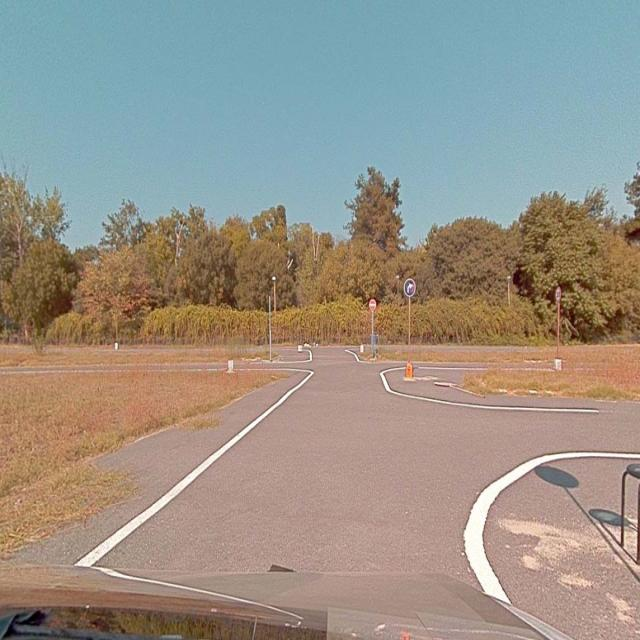girisyok: (370, 300, 376, 310)
sag: (403, 279, 415, 297)
